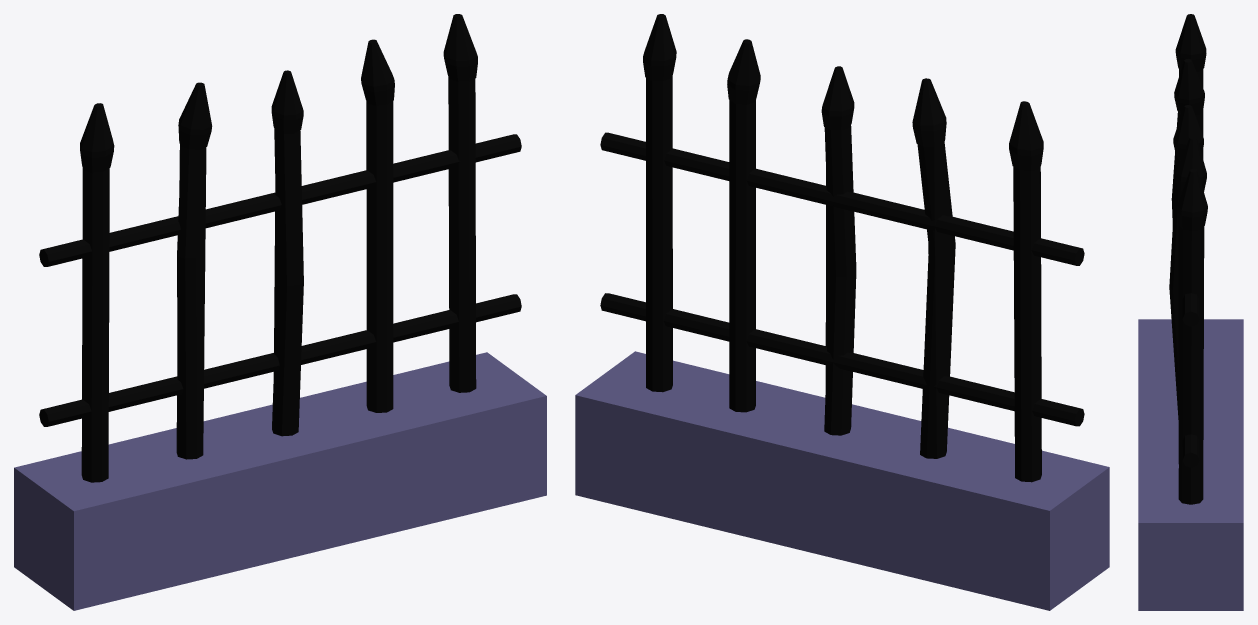
Rendered from Fence_Metal_05.fbx.
The picture shows the model from 3 angles, left to right: view 1: azimuth 30°, elevation 25°; view 2: azimuth 150°, elevation 25°; view 3: azimuth 270°, elevation 25°; orthographic projection. The views are drawn at different scales.
Visible parts, largest first — view 1: Fence_05; view 2: Fence_05; view 3: Fence_05.
Boxes of the visible parts, left/top/right/bottom form: Fence_05: left=14, top=14, right=546, bottom=610; Fence_05: left=575, top=14, right=1109, bottom=610; Fence_05: left=1138, top=14, right=1243, bottom=610.
Bounding box in the file's own units: 199 × 189 × 43.41.
